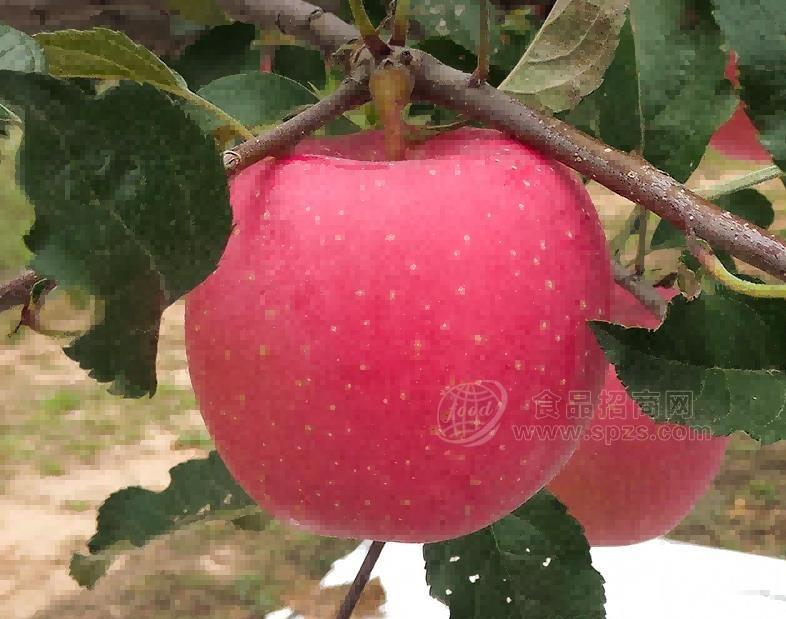apple: (179, 112, 613, 544), (544, 270, 732, 549)
